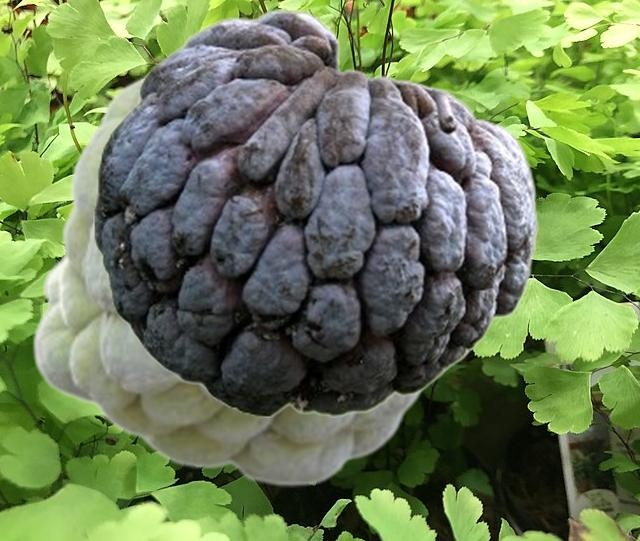atis: (93, 7, 537, 416), (31, 44, 429, 486)
